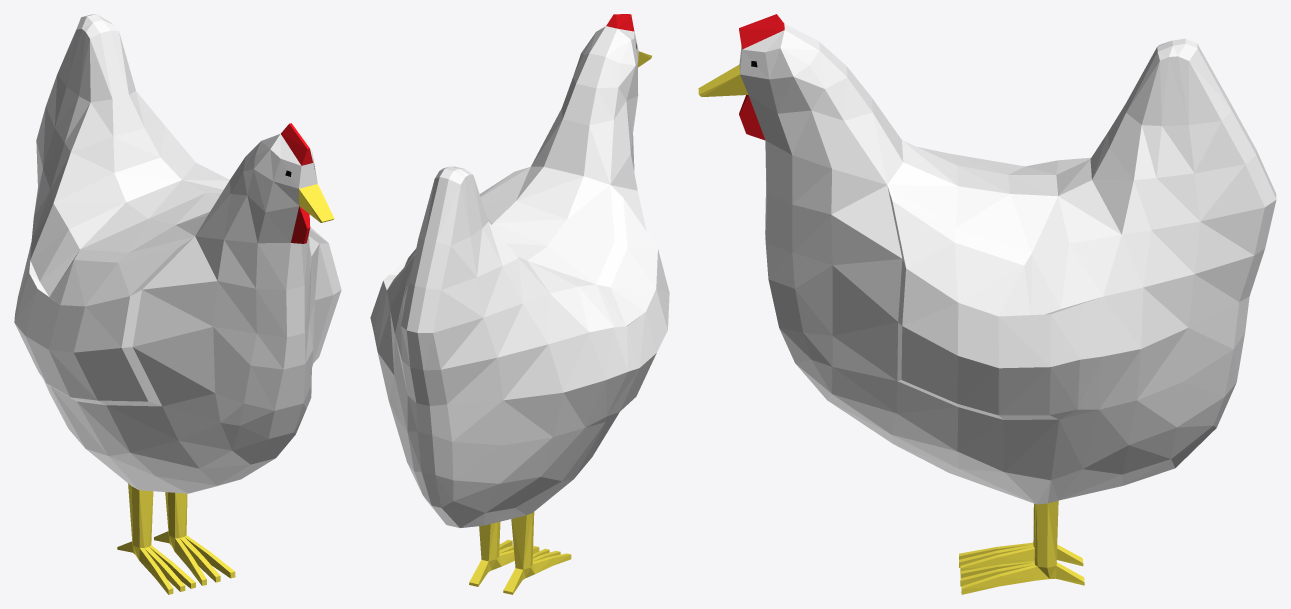
Rendered from gallina.obj.
3 views of the same model, side by side, from view 1: azimuth 30°, elevation 25°; view 2: azimuth 150°, elevation 25°; view 3: azimuth 270°, elevation 25° (orthographic). The views are drawn at different scales.
Parts seen in each view (by area): view 1: gallina_Feathers; view 2: gallina_Feathers; view 3: gallina_Feathers.
Boxes of the visible parts, x1,y1,x2,y2 form: gallina_Feathers: [14, 14, 341, 594]; gallina_Feathers: [370, 14, 669, 594]; gallina_Feathers: [698, 14, 1276, 594].
Size of the model in its own units: 0.3422 by 0.6097 by 0.5661.
Materials: 1 (1 with a texture image).
